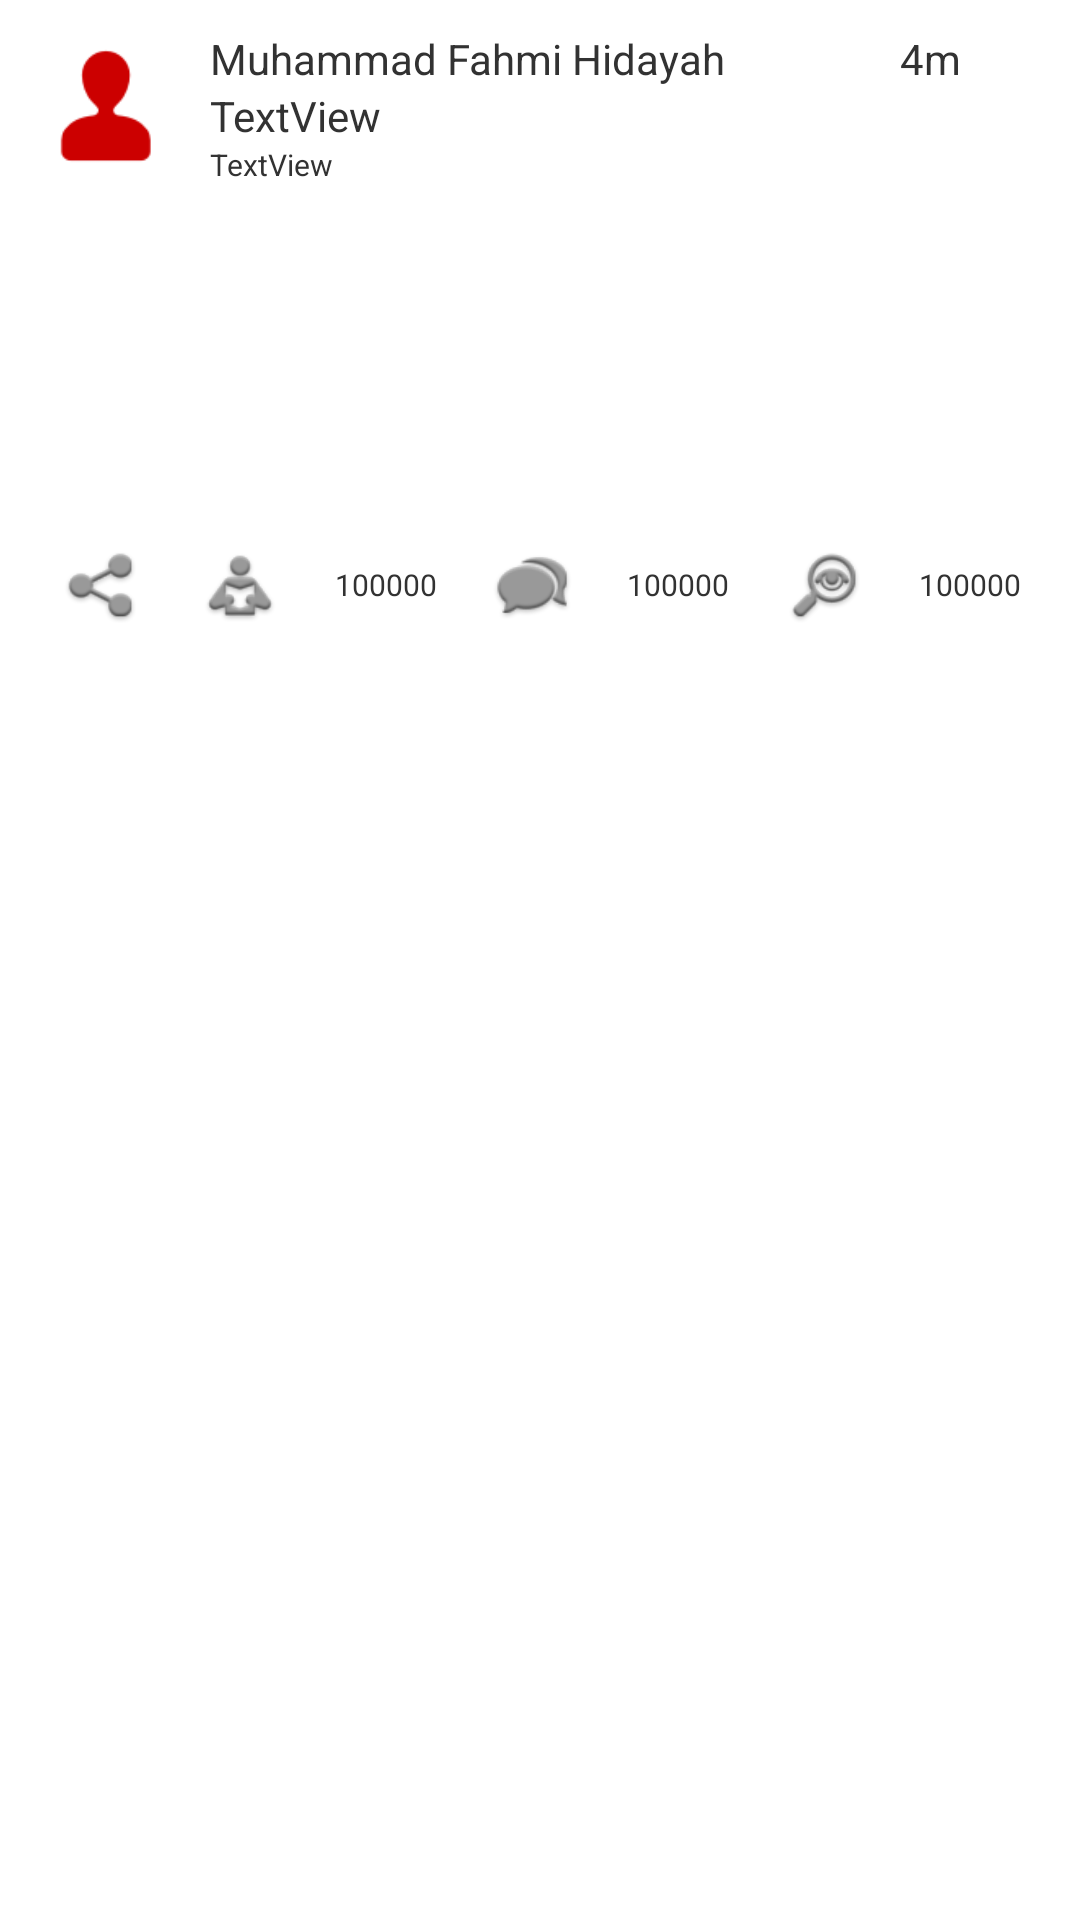

Icon bounding boxes for this 1080px x 1920px phone screenshot, format (x1, y1, x2, y2):
comment: (497, 557, 568, 615)
pantau: (792, 554, 856, 619)
profile: (60, 50, 151, 161)
share: (68, 554, 132, 619)
